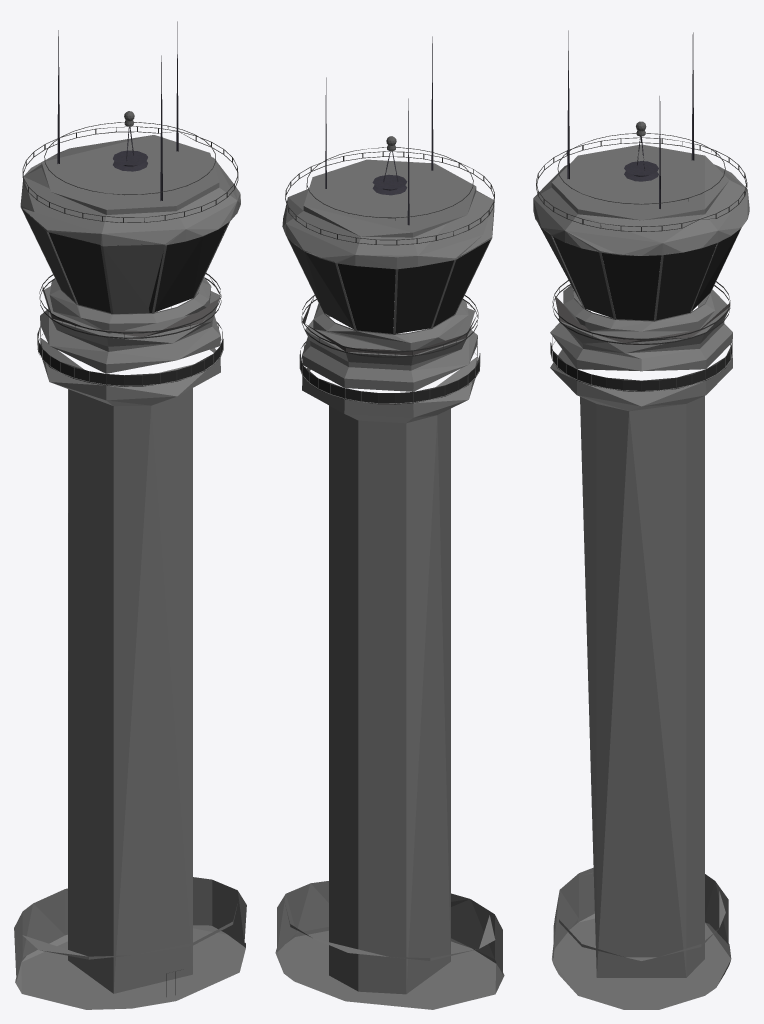
The model's file is tower.glb.
3 views of the same model, side by side, from view 1: azimuth 30°, elevation 25°; view 2: azimuth 150°, elevation 25°; view 3: azimuth 270°, elevation 25° (orthographic). The views are drawn at different scales.
Parts seen in each view (by area): view 1: Concrete structure, Base structure, Glass, ralling2, ralling1, ralling glass, rader base; view 2: Concrete structure, Base structure, Glass, ralling2, ralling1, ralling glass, rader base; view 3: Concrete structure, Glass, Base structure, ralling2, ralling glass, ralling1, rader base.
Part boxes in pixels (<box>): Concrete structure: <box>20,135,240,993</box>; Base structure: <box>14,877,246,1009</box>; Glass: <box>22,208,228,386</box>; ralling2: <box>22,126,238,222</box>; ralling1: <box>39,273,221,338</box>; ralling glass: <box>42,278,220,337</box>; rader base: <box>113,150,147,171</box>; Concrete structure: <box>282,159,494,994</box>; Base structure: <box>275,881,504,1009</box>; Glass: <box>287,237,490,404</box>; ralling2: <box>285,151,494,245</box>; ralling1: <box>301,295,478,357</box>; ralling glass: <box>302,297,477,355</box>; rader base: <box>372,174,407,195</box>; Concrete structure: <box>533,144,749,977</box>; Glass: <box>538,223,741,391</box>; Base structure: <box>552,867,731,1009</box>; ralling2: <box>536,137,747,231</box>; ralling glass: <box>554,295,730,343</box>; ralling1: <box>552,280,730,344</box>; rader base: <box>624,161,658,181</box>.
Size of the model in its own units: 17 by 71.99 by 15.12.
6 materials, 2 textured.
